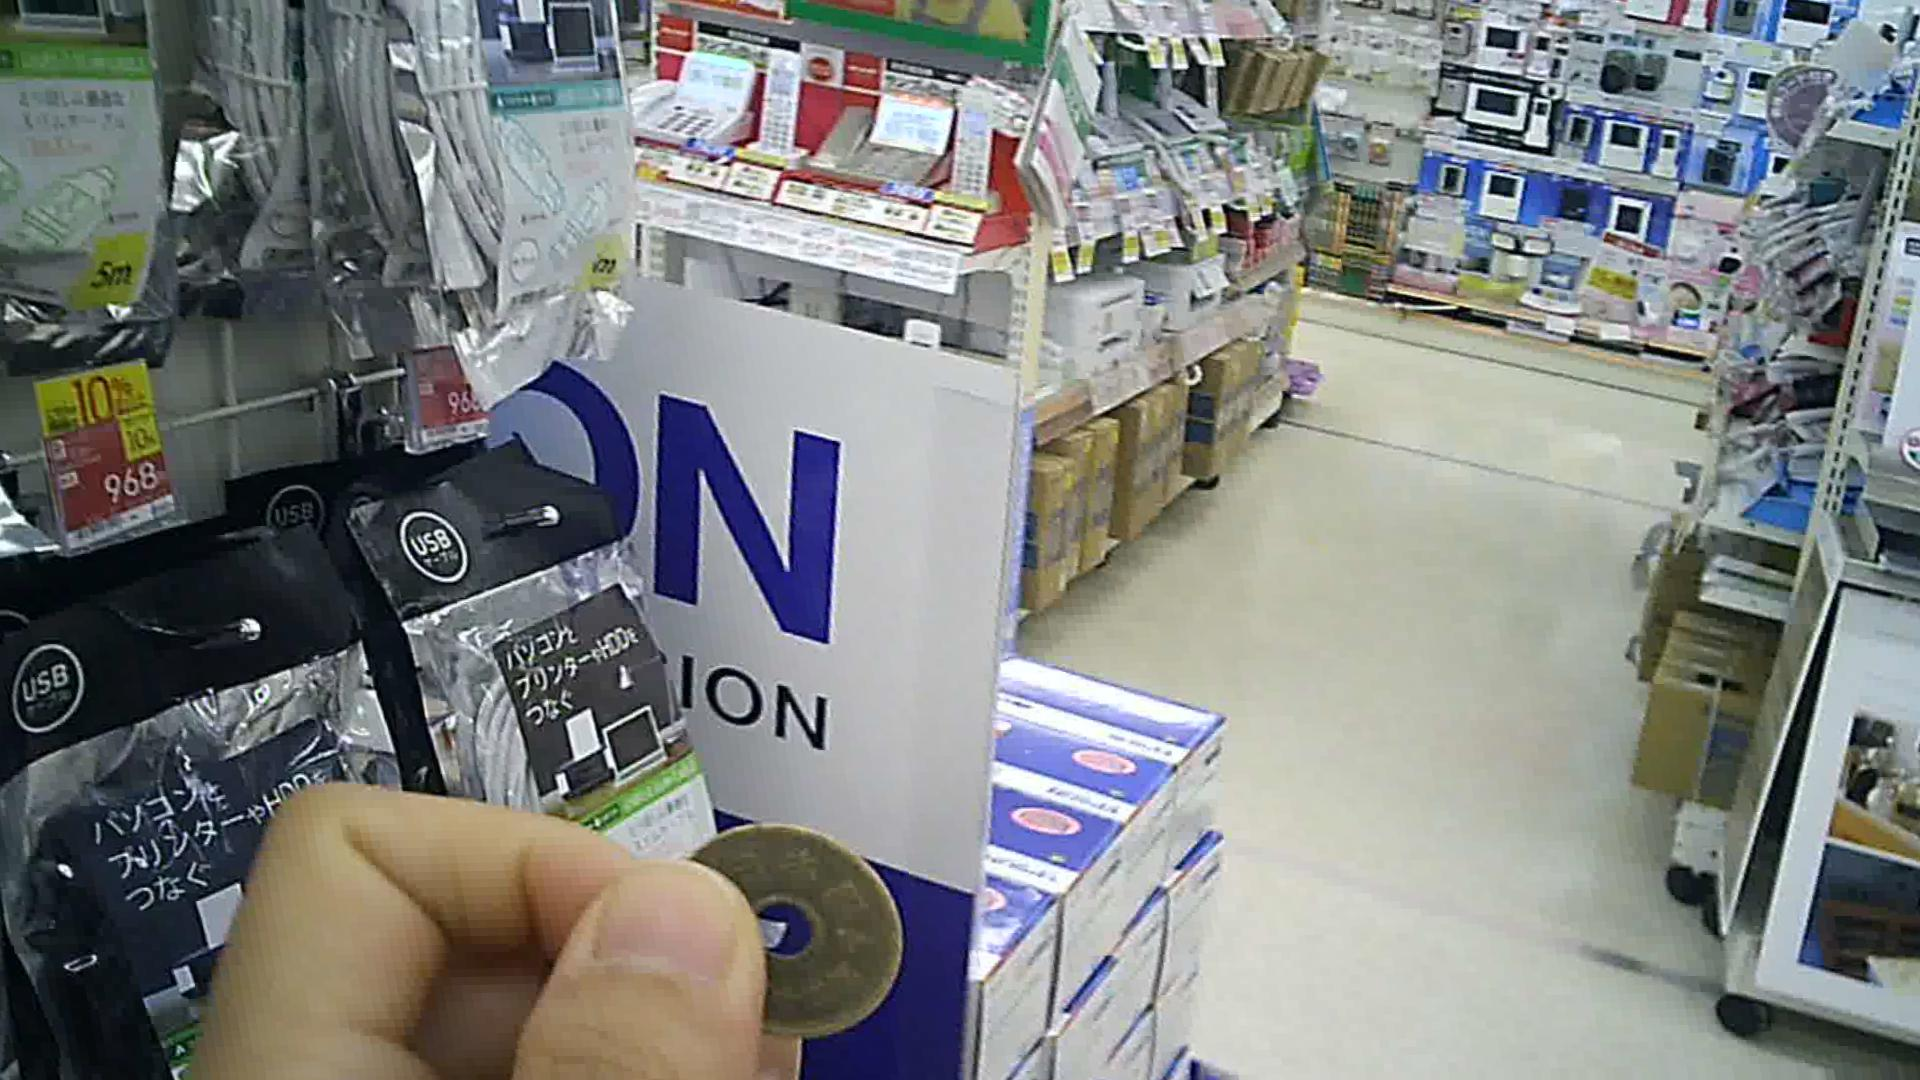5 Yen: (654, 825, 903, 1042)
